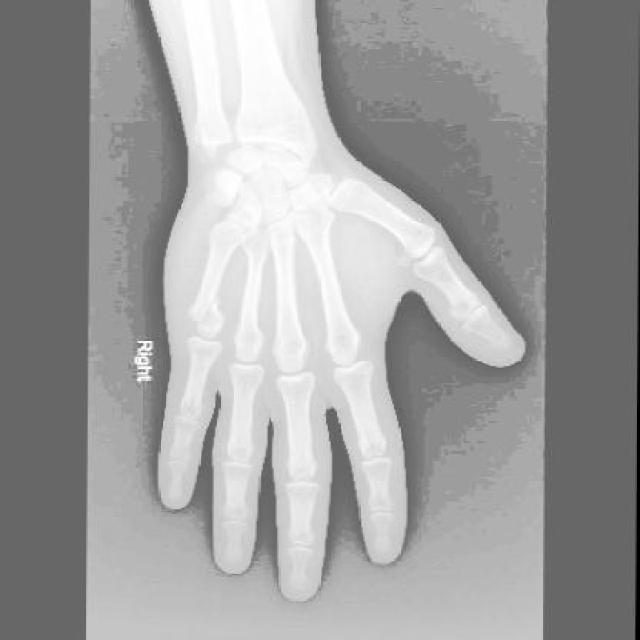Fracture: (190, 299, 224, 339)
